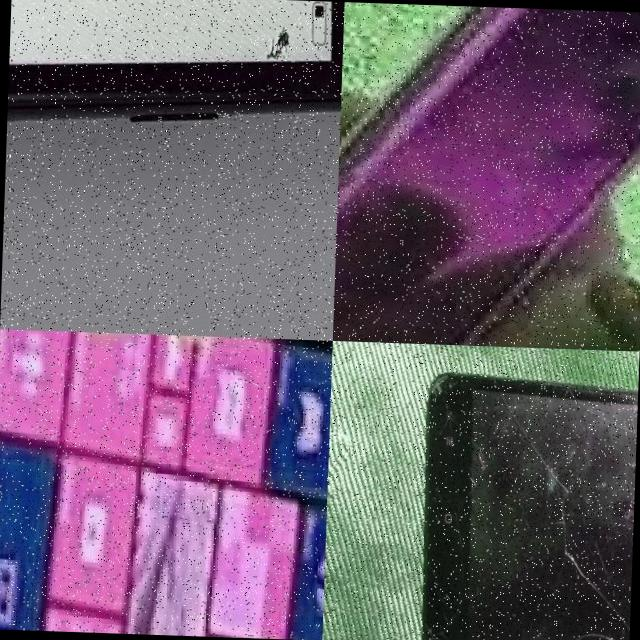dead pixel: (246, 0, 320, 108)
screen crack: (422, 377, 638, 640)
